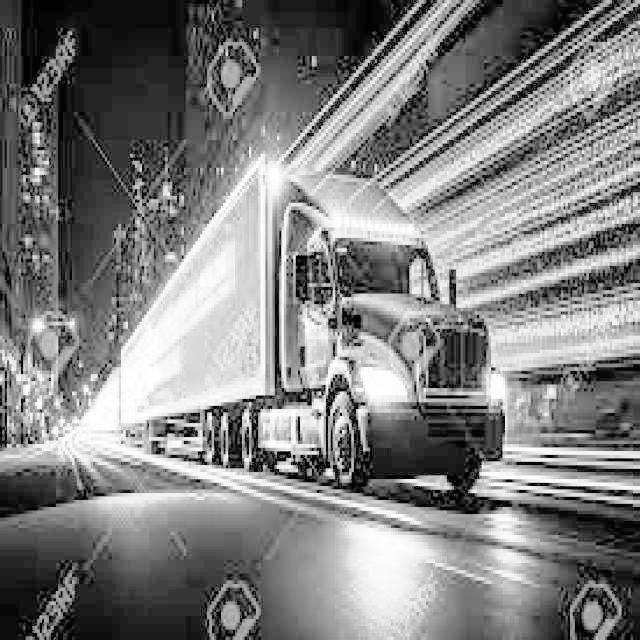Truck: (112, 150, 506, 493)
